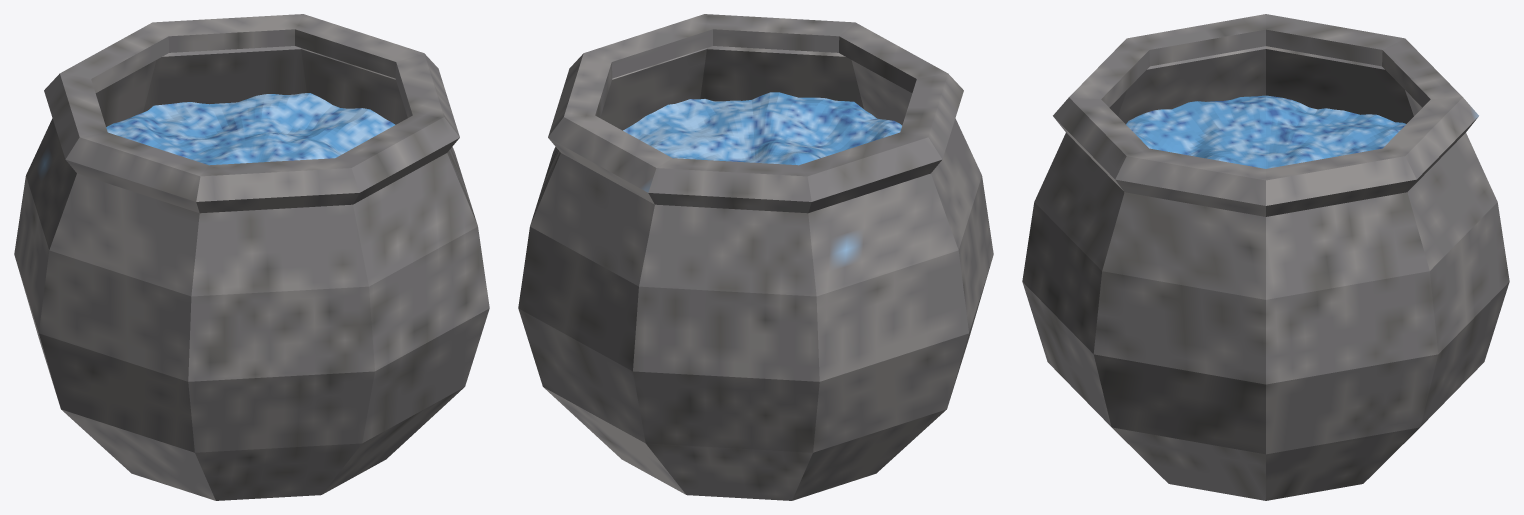
Rendered from SM_Dungeon_Cauldren.fbx.
The picture shows the model from 3 angles, left to right: view 1: azimuth 30°, elevation 25°; view 2: azimuth 150°, elevation 25°; view 3: azimuth 270°, elevation 25°; orthographic projection.
Parts seen in each view (by area): view 1: Deco_Cauldren.001; view 2: Deco_Cauldren.001; view 3: Deco_Cauldren.001.
Boxes of the visible parts, x1,y1,x2,y2 form: Deco_Cauldren.001: (14,14,489,500); Deco_Cauldren.001: (518,14,993,500); Deco_Cauldren.001: (1022,14,1509,500).
Bounding box in the file's own units: 78.99 × 61.79 × 78.99.
